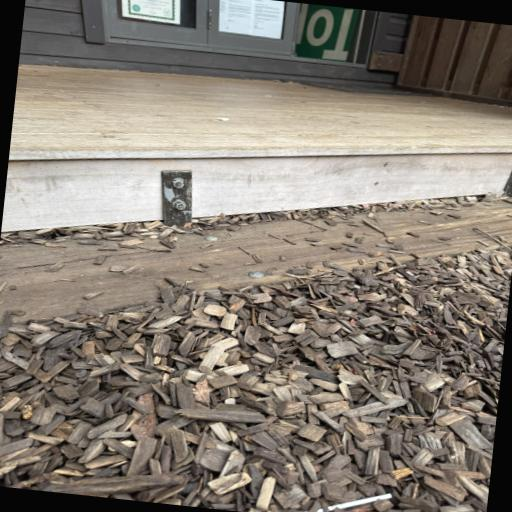step: (0, 143, 512, 330)
